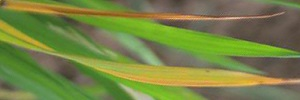RiceTungro: (109, 60, 300, 90), (1, 2, 289, 20)
